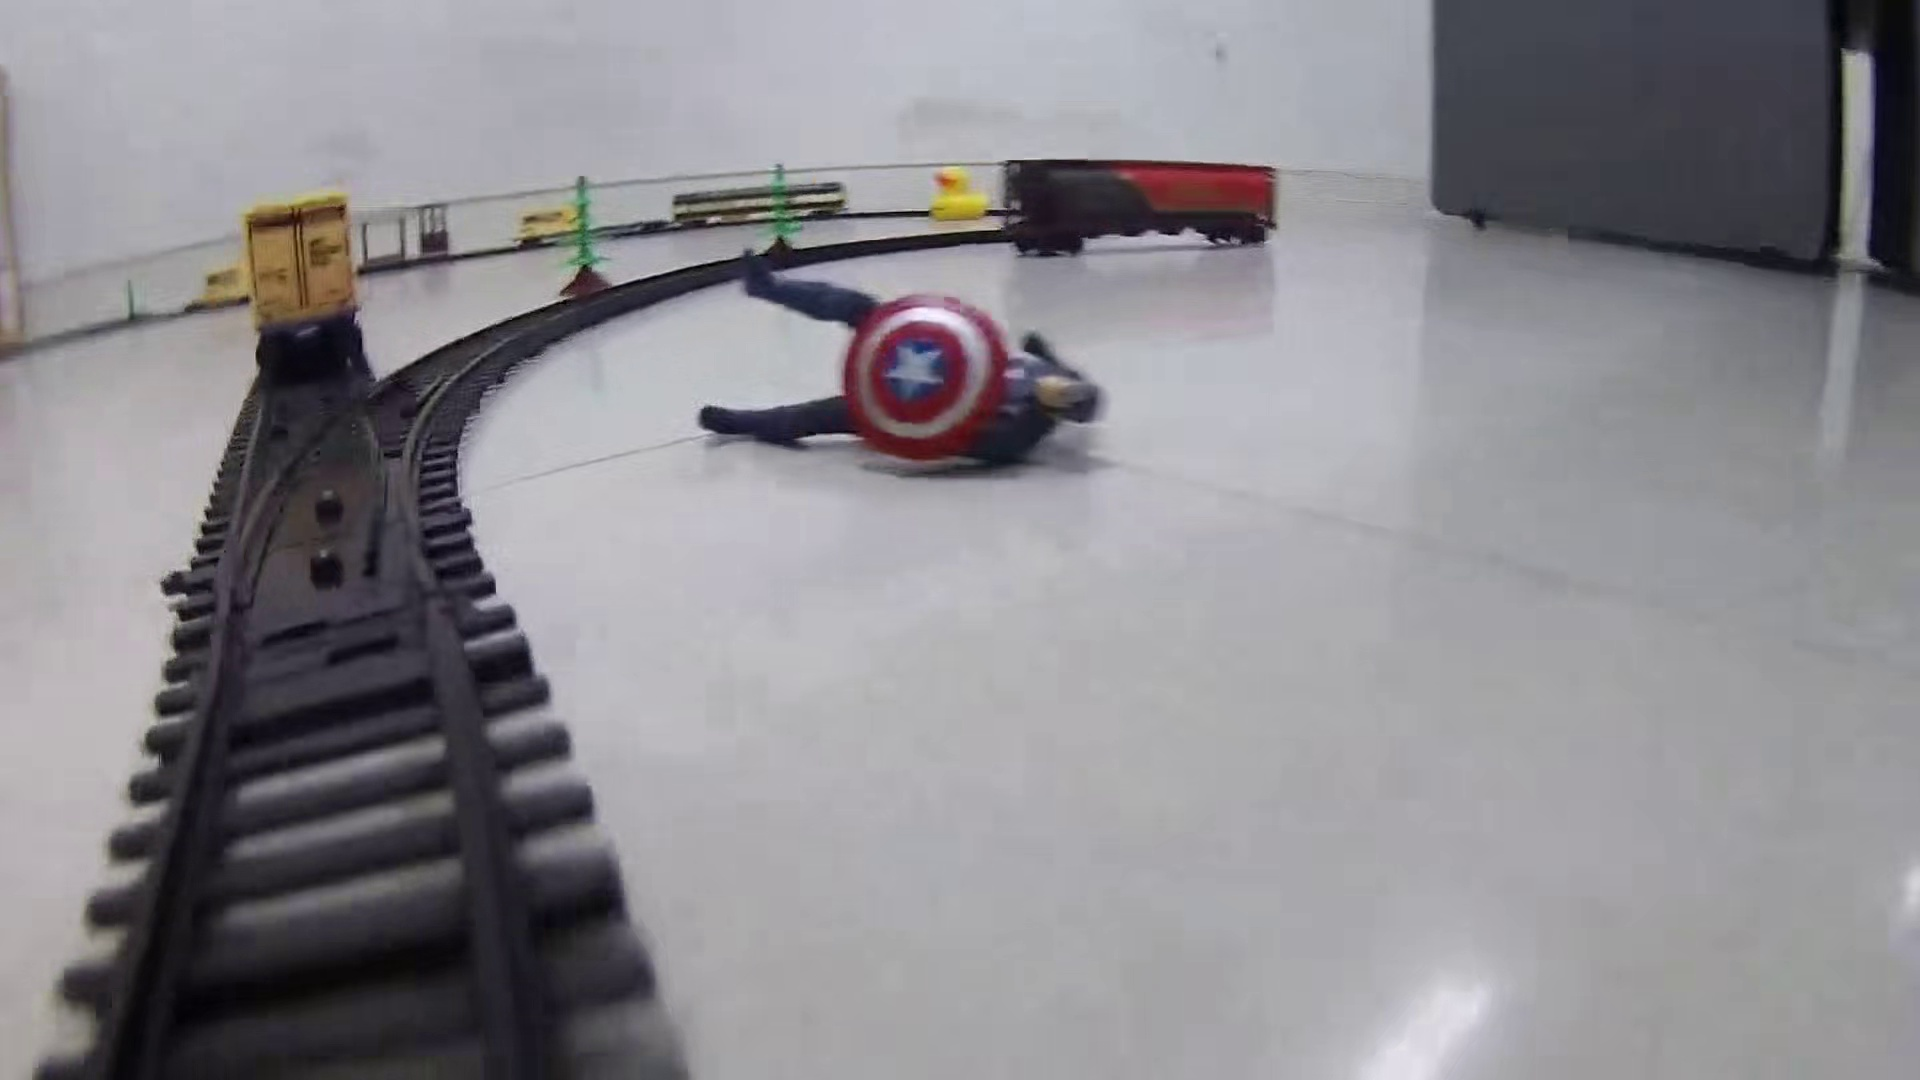people: (694, 250, 1107, 480)
tree: (553, 175, 618, 300), (757, 162, 804, 254)
